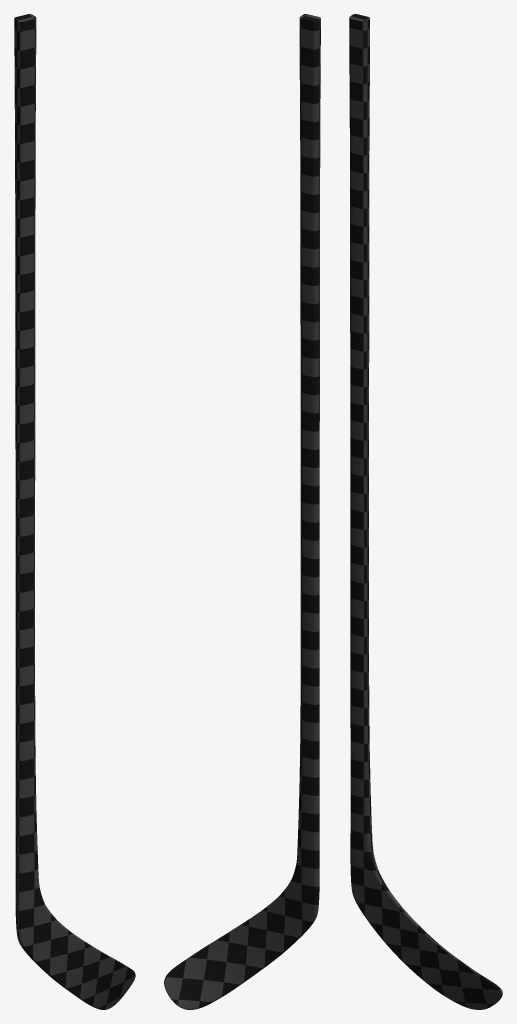
The model's file is P41-SBO.glb.
The picture shows the model from 3 angles, left to right: view 1: azimuth 30°, elevation 25°; view 2: azimuth 150°, elevation 25°; view 3: azimuth 330°, elevation 25°; orthographic projection. The views are drawn at different scales.
Visible parts, largest first — view 1: geometry_0; view 2: geometry_0; view 3: geometry_0.
Boxes of the visible parts, <box> form: geometry_0: <box>14,14,135,1009</box>; geometry_0: <box>164,14,320,1009</box>; geometry_0: <box>349,14,502,1009</box>.
Bounding box in the file's own units: 233 × 1650 × 75.28.
Materials: 1 (1 with a texture image).
